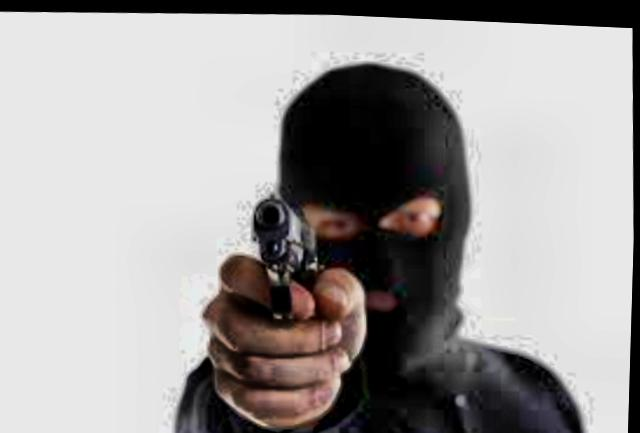pistol: (245, 182, 328, 326)
